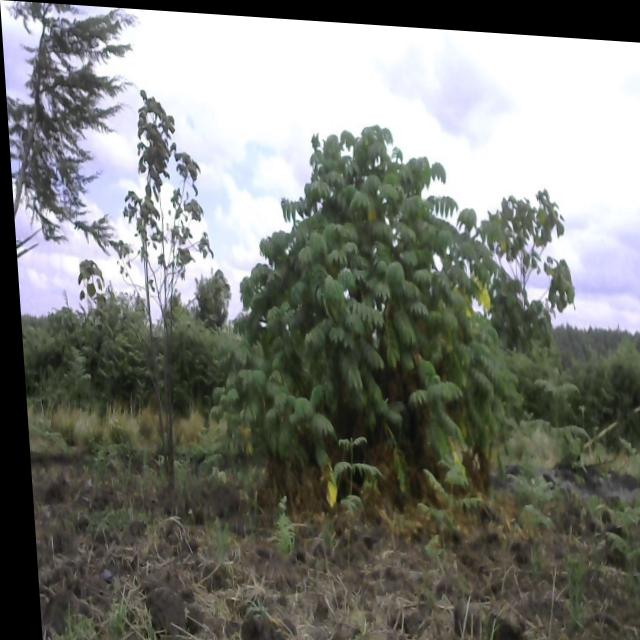Hagenia abyssinica: (218, 104, 548, 531)
other: (117, 98, 240, 508), (467, 181, 593, 371)
